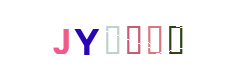4: (82, 0, 162, 80), (83, 0, 163, 80)
7: (80, 0, 160, 80)
8: (135, 0, 215, 80)
J: (46, 0, 126, 80)
Y: (74, 0, 154, 80)
